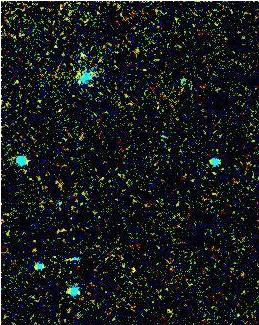star: (43, 215, 73, 245)
